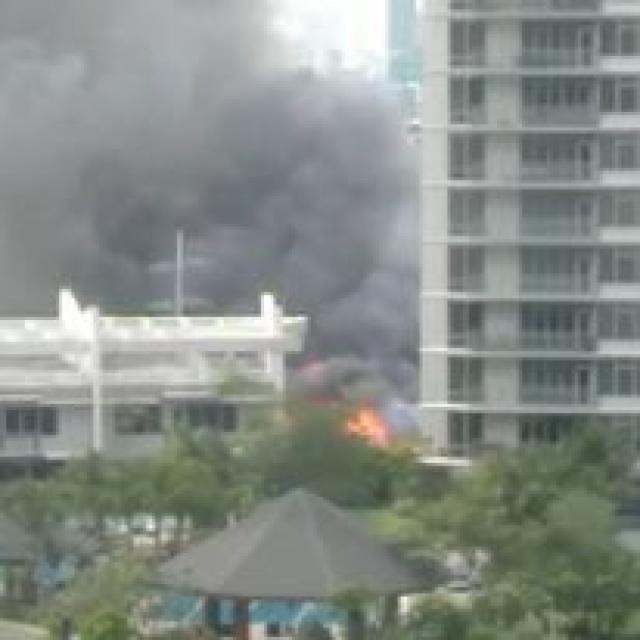Fire: (340, 400, 398, 454)
Smoke: (6, 2, 382, 304), (310, 275, 406, 398)
